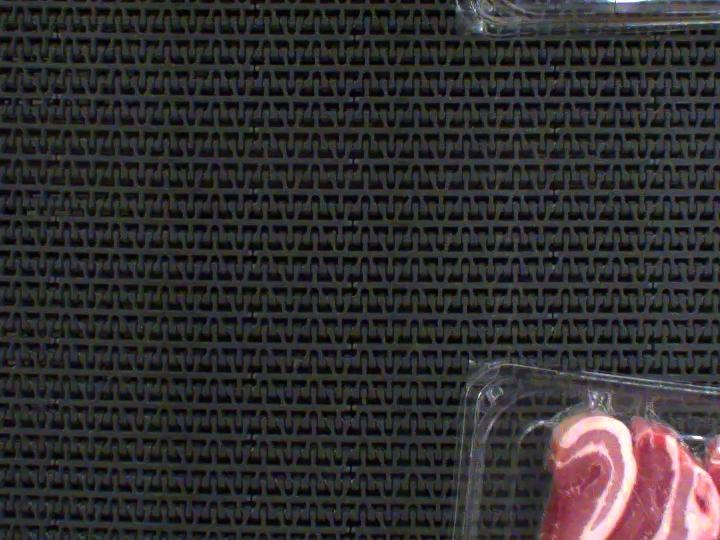packaging-error: (541, 366, 631, 426), (629, 381, 683, 441)
